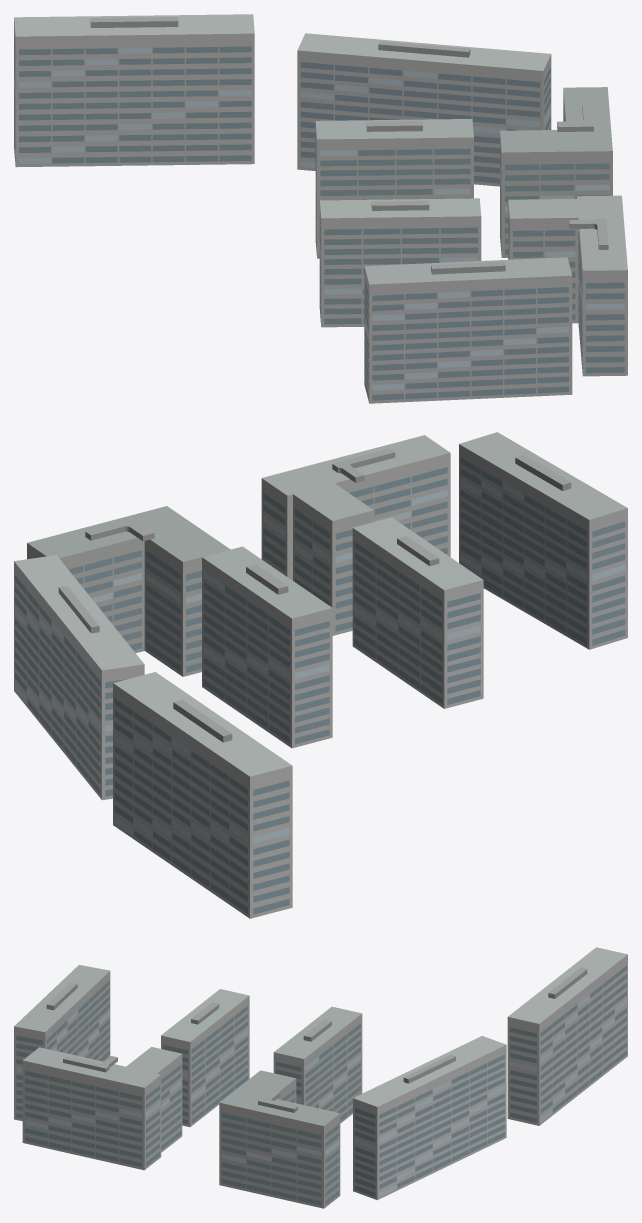
File: apt-a15703318.glb
The picture shows the model from 3 angles, top to bottom: view 1: azimuth 30°, elevation 25°; view 2: azimuth 150°, elevation 25°; view 3: azimuth 270°, elevation 25°; orthographic projection. The views are drawn at different scales.
Visible parts, largest first — view 1: apt-a15703318; view 2: apt-a15703318; view 3: apt-a15703318.
Part boxes in pixels (x1,y1,x2,y2): apt-a15703318: (14, 14, 627, 403); apt-a15703318: (14, 432, 627, 918); apt-a15703318: (14, 947, 627, 1208).
Size of the model in its own units: 123 by 38.25 by 200.
